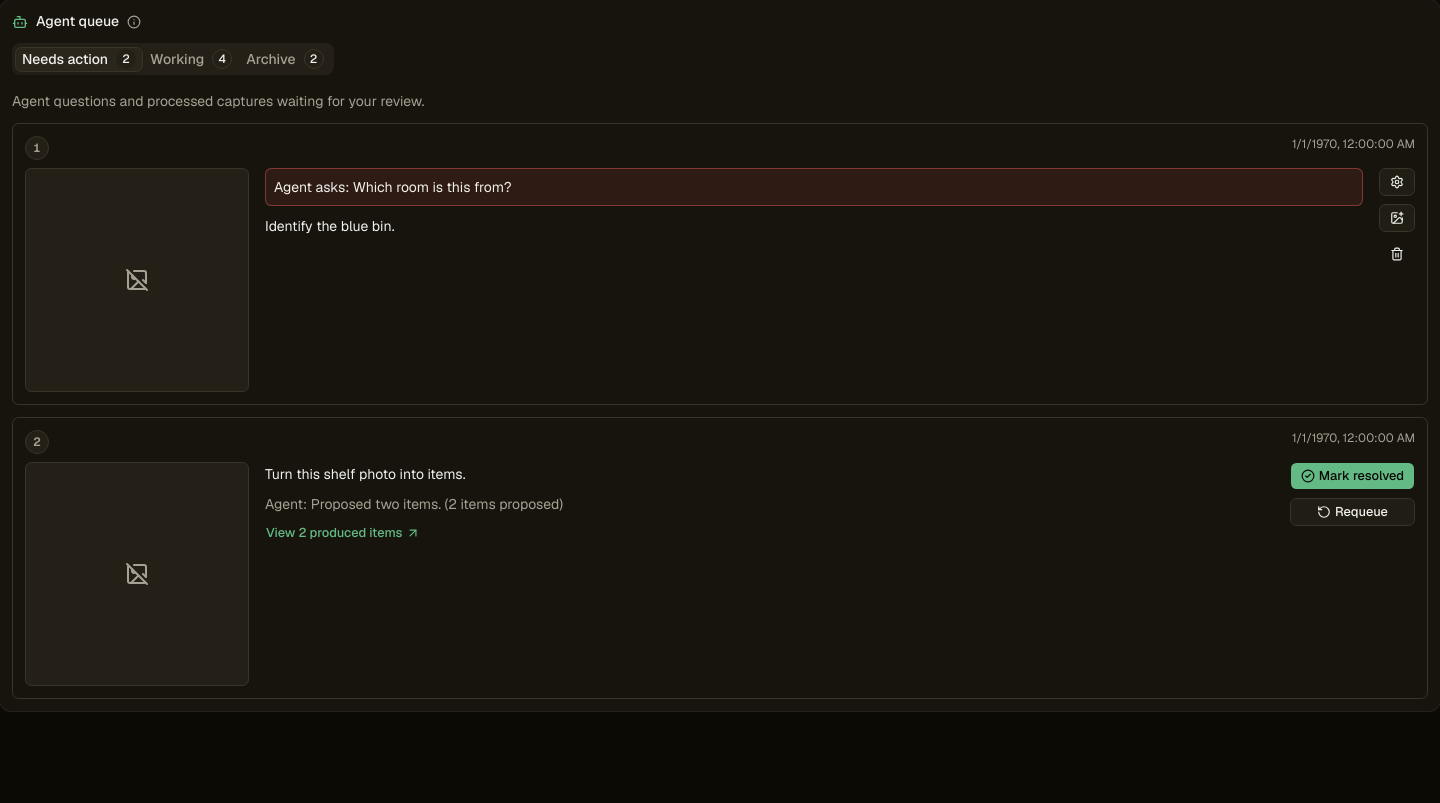
Test: IngestionQueueList tabs view › separates needs-action, working, and archived entries
This screenshot has width=1440, height=803.
Expected: the text "Agent asks: Which room is this from?" is shown, [265,168,1363,206]
Expected: the text "Agent: Proposed two items. (2 items proposed)" is shown, [265,495,563,513]
Note: Working tab: queued + claimed (including the uploading/failed queued ones).
Click the tab "Working 4" at (191, 59), box [143,47,239,72]
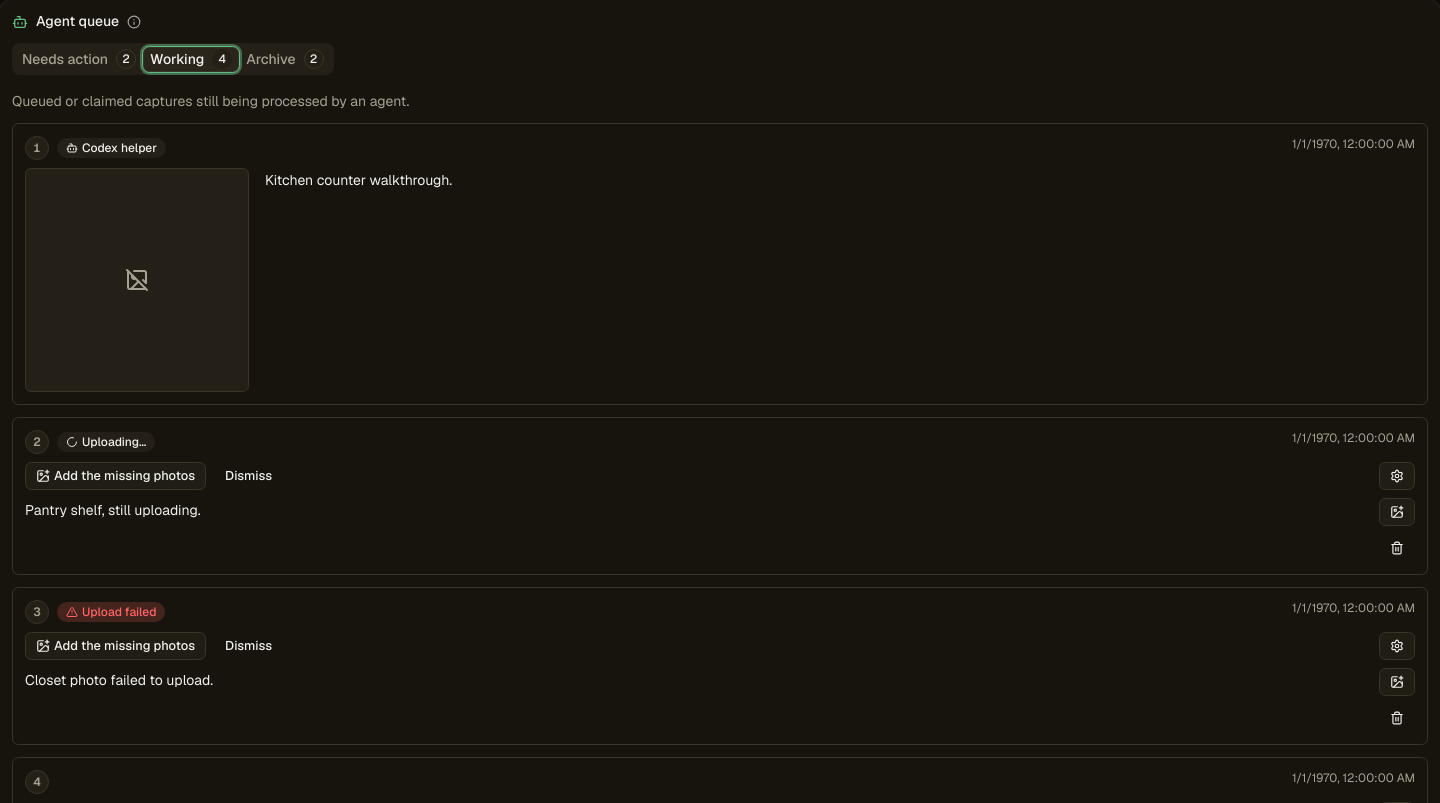
Now the text "Queued or claimed captures still being processed by an agent." is shown, box [12,92,409,110]
Now the text "Kitchen counter walkthrough." is shown, box [265,171,452,189]
Now the text "Codex helper" is shown, box [57,138,166,158]
Note: Archive tab: resolved + discarded.
Click the tab "Archive 2" at (285, 59), box [239,47,330,72]
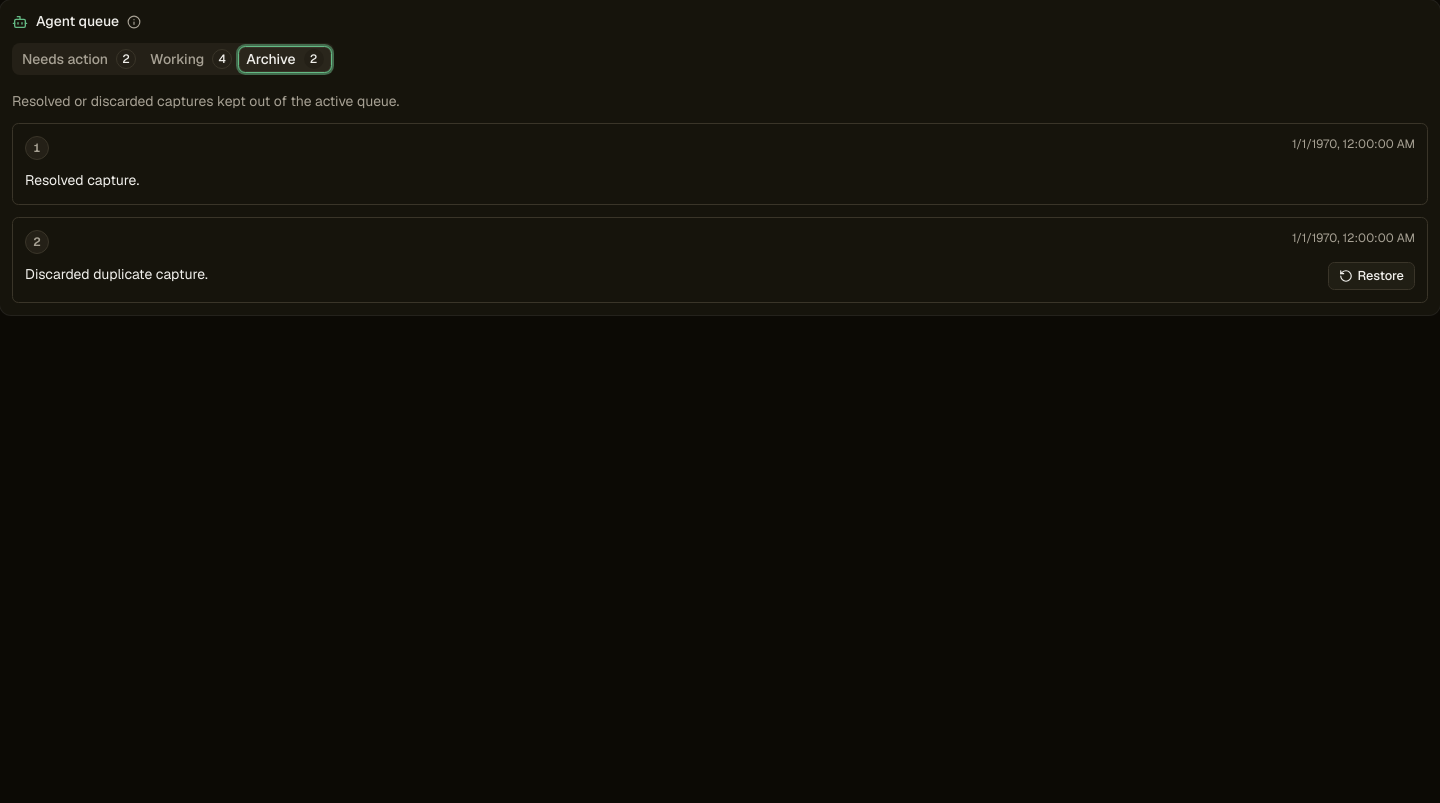
Now the text "Resolved or discarded captures kept out of the active queue." is shown, box [12,92,399,110]
Now the text "Resolved capture." is shown, box [25,171,139,189]
Now the text "Discarded duplicate capture." is shown, box [25,265,208,283]
